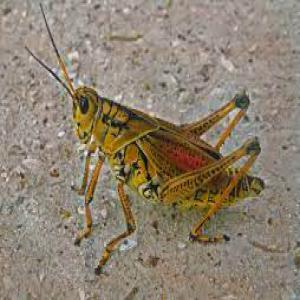locust: (35, 48, 282, 271)
